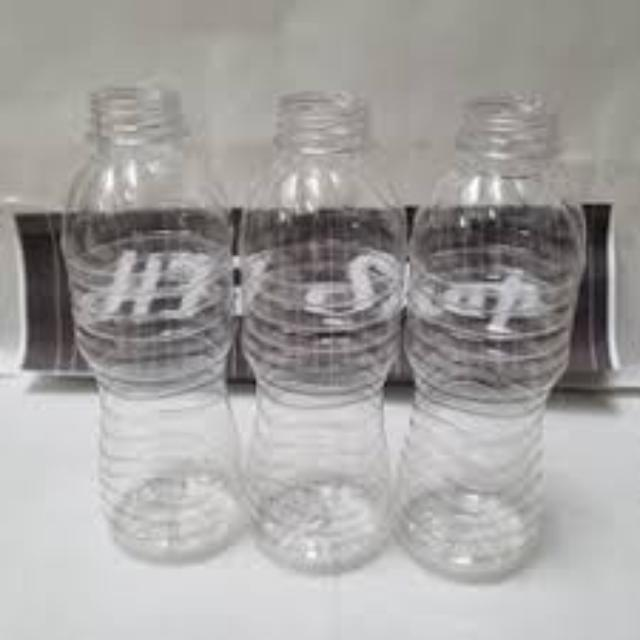trash: (390, 85, 586, 587), (54, 77, 236, 569), (236, 83, 408, 577)
